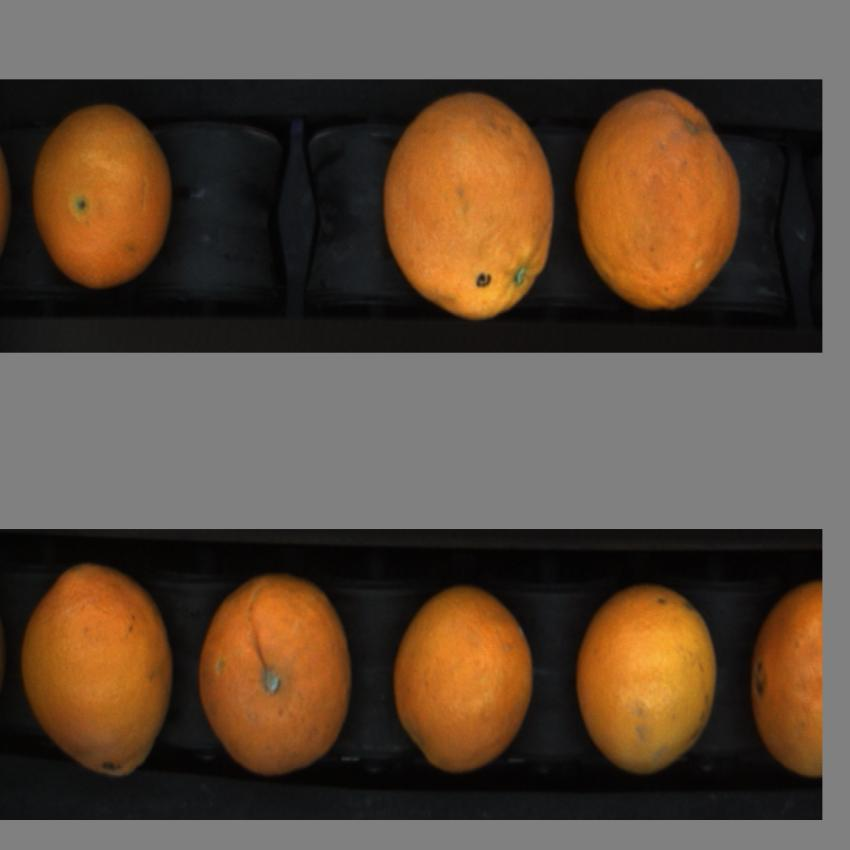Buen estado: (376, 88, 567, 333), (10, 553, 180, 799), (193, 566, 360, 791), (386, 567, 542, 785), (565, 572, 722, 783), (27, 102, 188, 294), (740, 572, 822, 796)
Mal estado: (573, 86, 751, 318)
